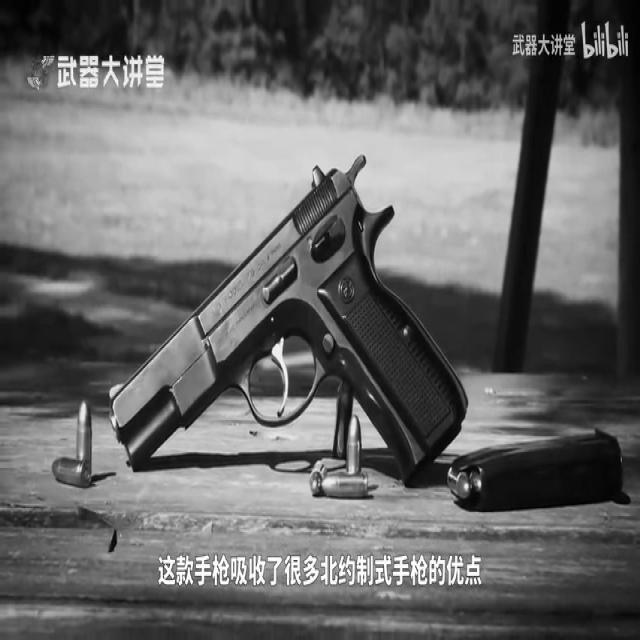Hand-Gun: (108, 147, 466, 519)
